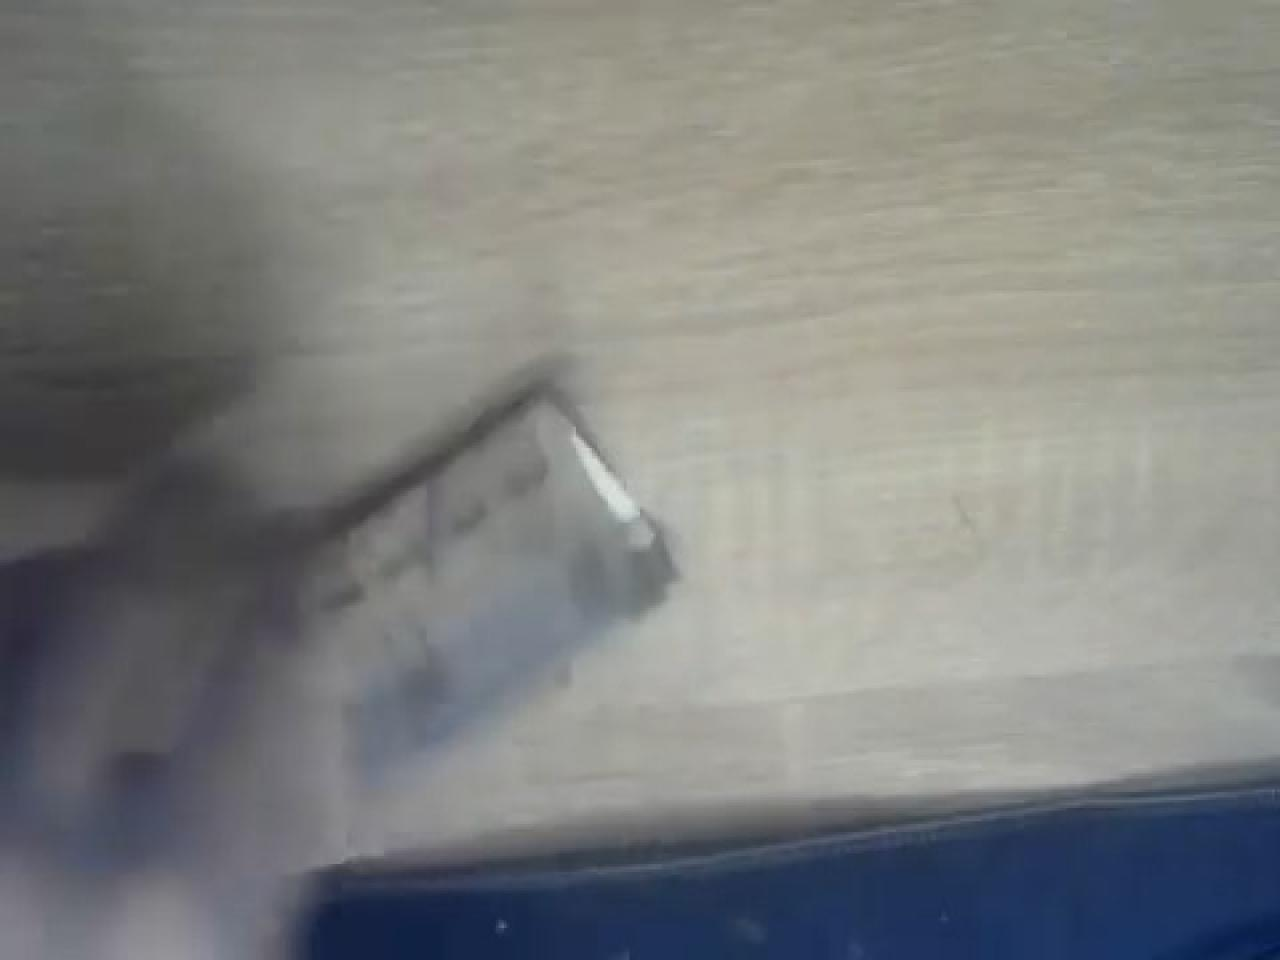10leva: (19, 381, 680, 960)
